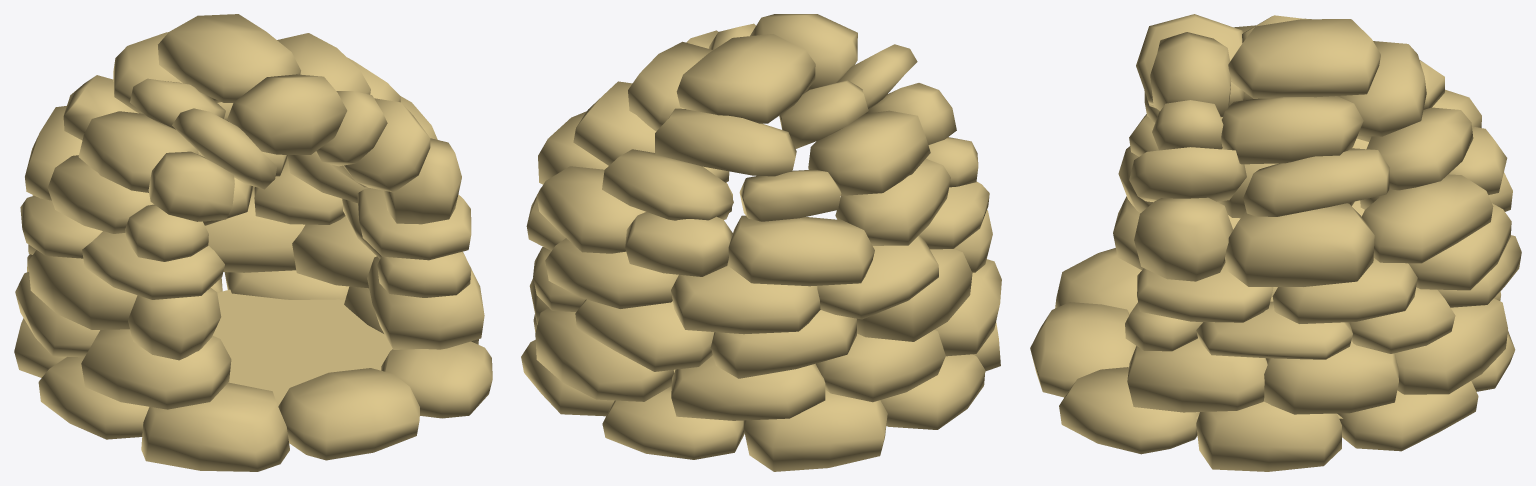
Rendered from Furnace.fbx.
The picture shows the model from 3 angles, left to right: view 1: azimuth 30°, elevation 25°; view 2: azimuth 150°, elevation 25°; view 3: azimuth 270°, elevation 25°; orthographic projection. The views are drawn at different scales.
Visible parts, largest first — view 1: Model; view 2: Model; view 3: Model.
Boxes of the visible parts, <box> form: Model: <box>14,14,492,471</box>; Model: <box>521,14,1001,471</box>; Model: <box>1030,14,1521,471</box>.
Size of the model in its own units: 467 by 371 by 488.
